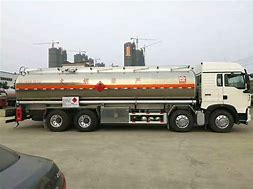oil truck: (8, 52, 251, 136)
